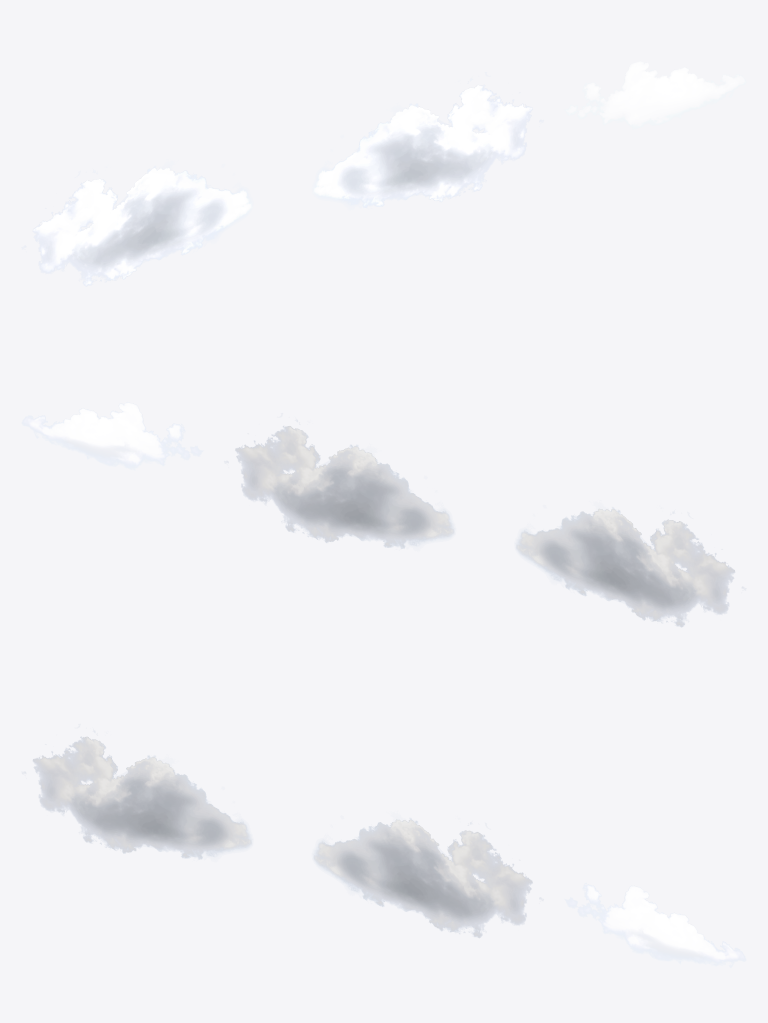
File: clouds.glb
The picture shows the model from 3 angles, top to bottom: view 1: azimuth 30°, elevation 25°; view 2: azimuth 150°, elevation 25°; view 3: azimuth 330°, elevation 25°; orthographic projection.
Parts seen in each view (by area): view 1: Oblak 1.001, Oblak 1, Oblak 3; view 2: Oblak 1.001, Oblak 1, Oblak 3; view 3: Oblak 1, Oblak 1.001, Oblak 3.
Boxes of the visible parts, left/top/right/bottom form: Oblak 1.001: left=313, top=79, right=541, bottom=207; Oblak 1: left=24, top=167, right=252, bottom=286; Oblak 3: left=565, top=61, right=745, bottom=126; Oblak 1.001: left=226, top=420, right=454, bottom=548; Oblak 1: left=515, top=508, right=743, bottom=627; Oblak 3: left=22, top=402, right=202, bottom=467; Oblak 1: left=24, top=731, right=252, bottom=859; Oblak 1.001: left=313, top=818, right=540, bottom=937; Oblak 3: left=566, top=885, right=745, bottom=964.
Bounding box in the file's own units: 3.78 × 0.7395 × 6.23e-08.
Materials: 2 (2 with a texture image).
